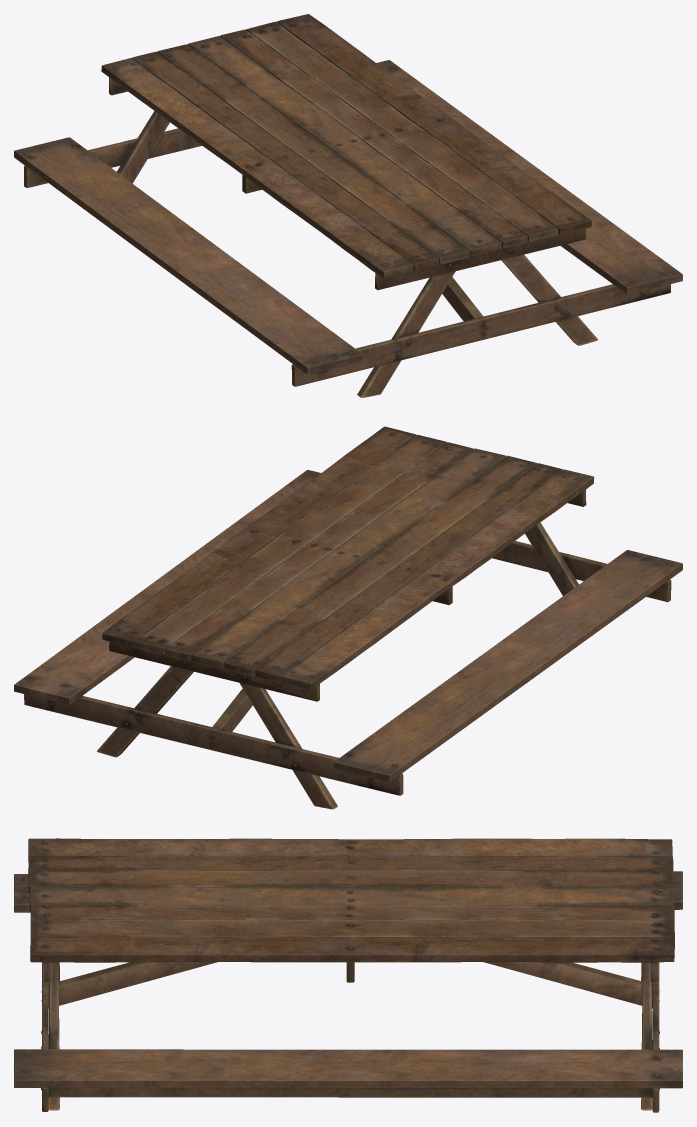
The model's file is picnic_table.glb.
3 renders of one model, top to bottom at view 1: azimuth 30°, elevation 25°; view 2: azimuth 150°, elevation 25°; view 3: azimuth 270°, elevation 25°, orthographic. The views are drawn at different scales.
Bounding box in the file's own units: 2.24 × 0.746 × 3.02.
2 materials, 2 textured.
